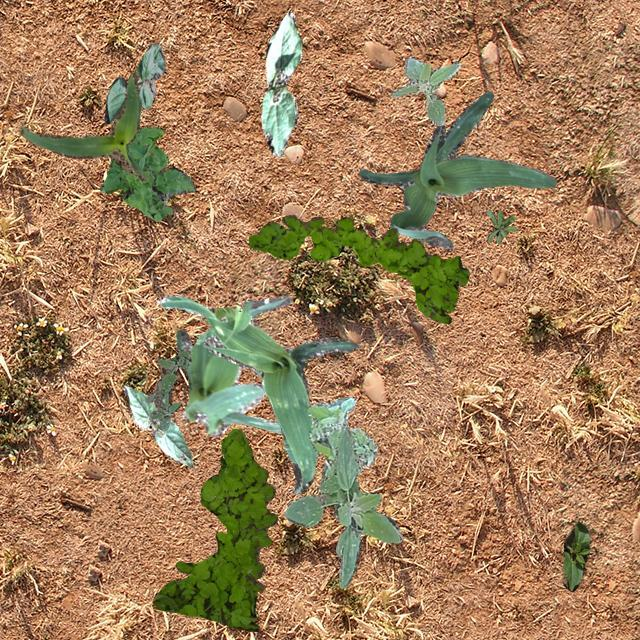crop: (156, 294, 358, 492), (358, 90, 556, 248), (176, 294, 290, 436), (19, 72, 148, 180), (260, 10, 302, 156), (121, 384, 192, 466), (104, 42, 164, 122), (560, 520, 590, 590)
weed: (152, 428, 276, 630), (248, 214, 468, 322), (284, 428, 402, 588), (99, 126, 194, 220), (306, 396, 376, 478), (390, 56, 460, 124), (144, 348, 190, 429), (484, 208, 516, 242)
